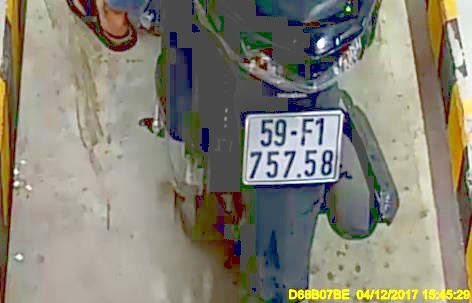plate: (246, 110, 337, 184)
